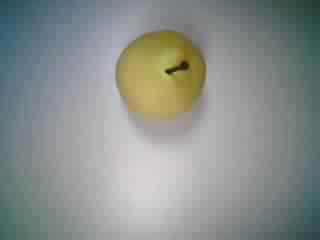pear: (102, 24, 217, 131)
